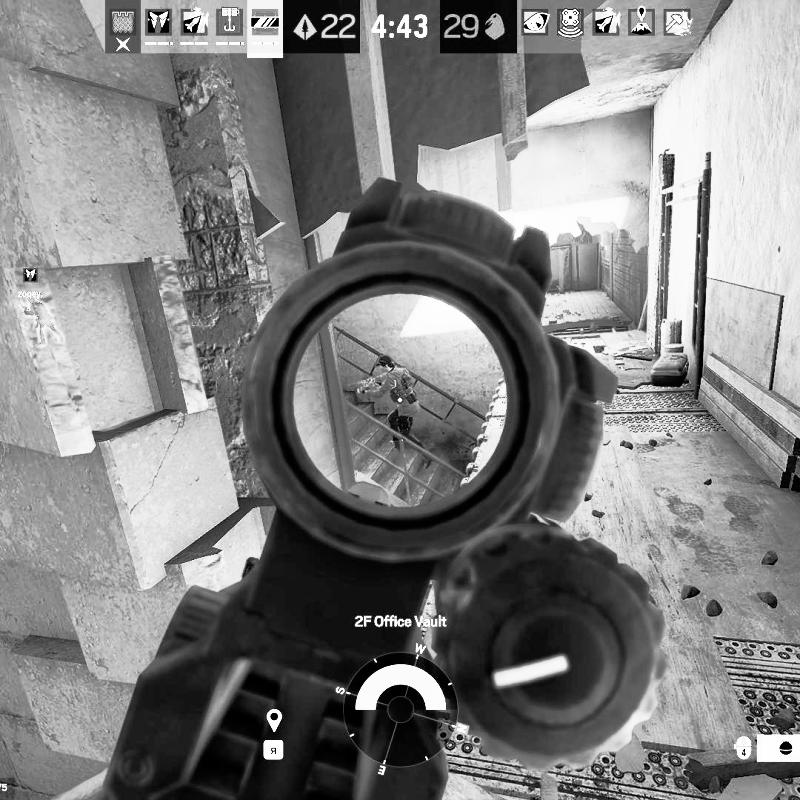Character: (347, 354, 434, 469)
Friend_label: (16, 266, 45, 300)
Head: (376, 354, 394, 372)
